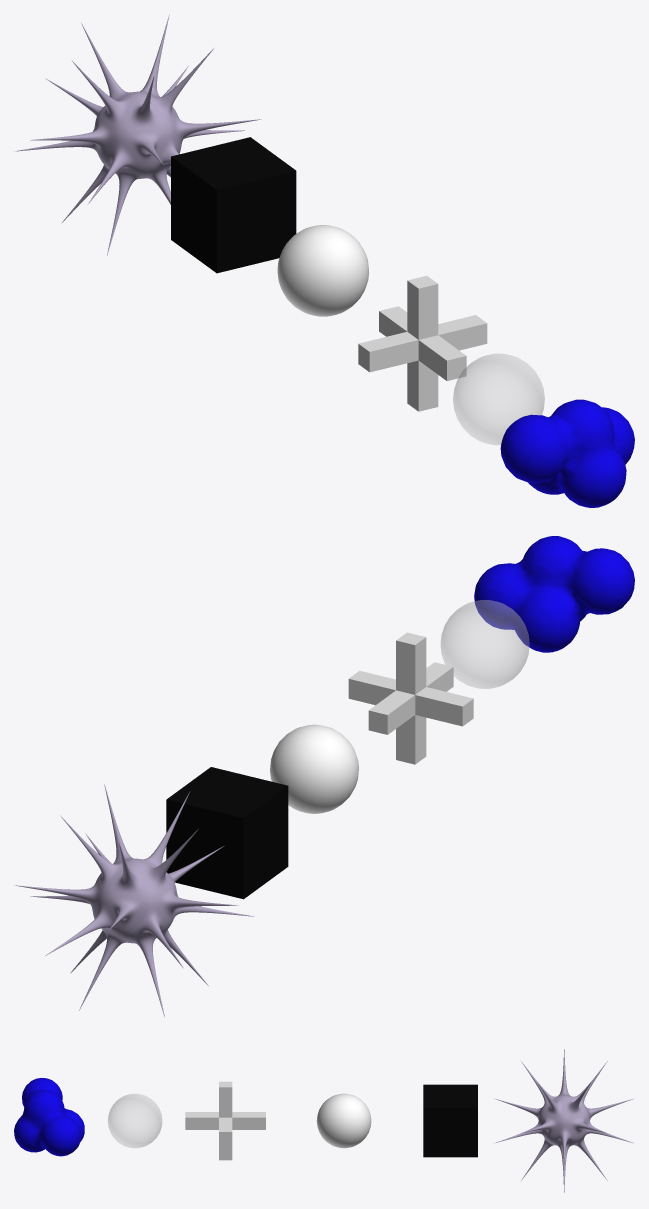
The model's file is dreamworld_atoms.glb.
The picture shows the model from 3 angles, top to bottom: view 1: azimuth 30°, elevation 25°; view 2: azimuth 150°, elevation 25°; view 3: azimuth 270°, elevation 25°; orthographic projection. The views are drawn at different scales.
Parts seen in each view (by area): view 1: atom_box, atom_spikes, atom_balls, atom_cross, Sphere, atom_ball; view 2: atom_box, atom_balls, atom_spikes, atom_cross, atom_ball, Sphere; view 3: atom_box, atom_balls, atom_spikes, Sphere, atom_ball, atom_cross.
Part boxes in pixels (bbox=[...]): atom_box: bbox=[171, 137, 296, 273]; atom_spikes: bbox=[14, 14, 261, 255]; atom_balls: bbox=[500, 399, 634, 507]; atom_cross: bbox=[358, 275, 487, 411]; Sphere: bbox=[277, 225, 368, 316]; atom_ball: bbox=[453, 354, 544, 444]; atom_box: bbox=[166, 767, 288, 899]; atom_balls: bbox=[474, 536, 634, 652]; atom_spikes: bbox=[14, 784, 254, 1017]; atom_cross: bbox=[348, 632, 473, 764]; atom_ball: bbox=[441, 600, 529, 688]; Sphere: bbox=[270, 724, 358, 813]; atom_box: bbox=[423, 1084, 477, 1157]; atom_balls: bbox=[14, 1078, 84, 1156]; atom_spikes: bbox=[495, 1049, 633, 1192]; Sphere: bbox=[316, 1093, 371, 1148]; atom_ball: bbox=[108, 1094, 161, 1147]; atom_cross: bbox=[185, 1081, 265, 1160].
Bounding box in the file's own units: 5.43 × 4.4 × 22.72.
